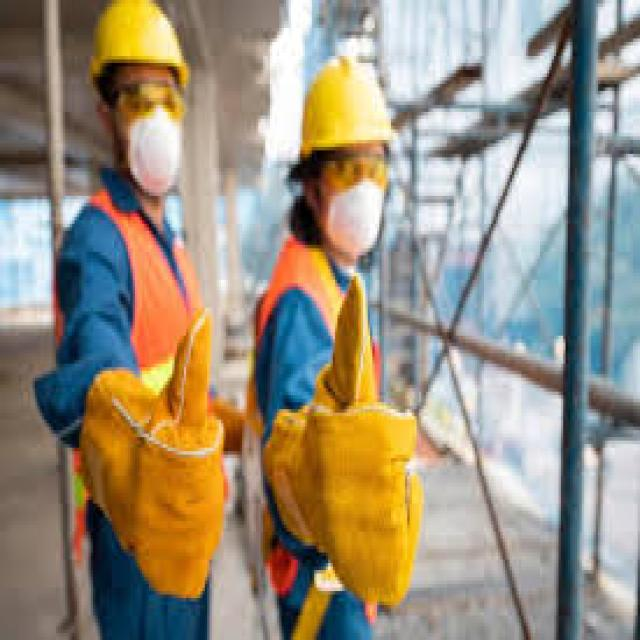gloved: (261, 273, 424, 622), (77, 304, 226, 598)
